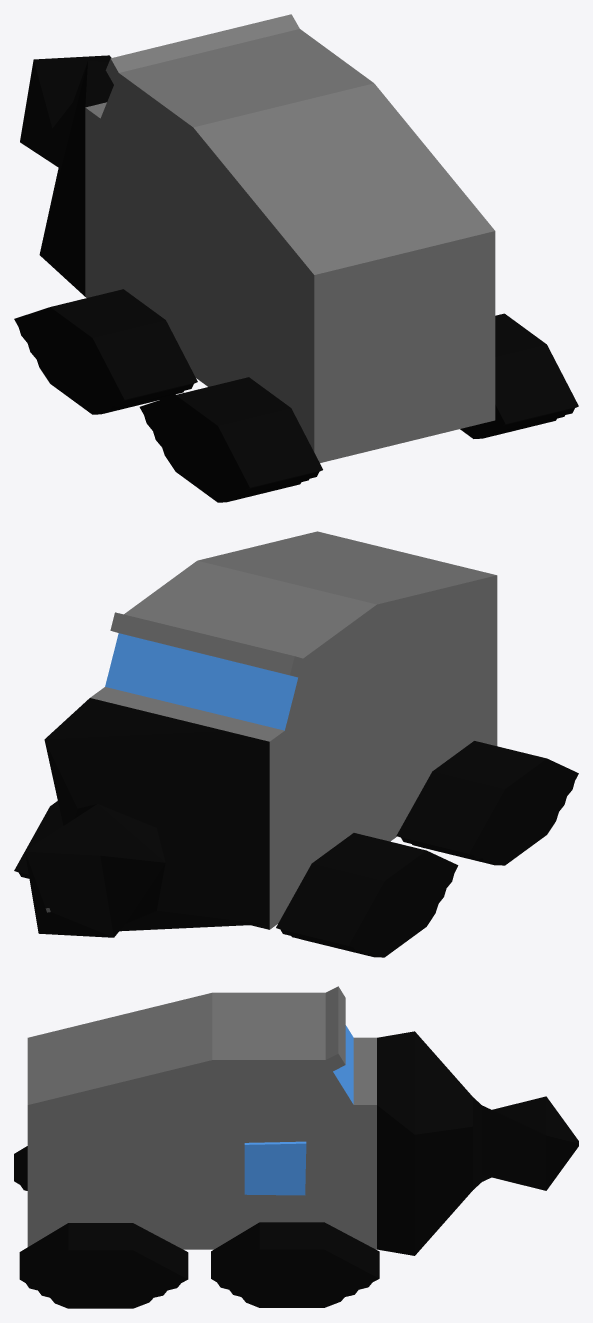
The model's file is Drill.fbx.
3 renders of one model, top to bottom at view 1: azimuth 30°, elevation 25°; view 2: azimuth 150°, elevation 25°; view 3: azimuth 270°, elevation 25°, orthographic. The views are drawn at different scales.
Parts seen in each view (by area): view 1: Cube; view 2: Cube; view 3: Cube.
Boxes of the visible parts, left/top/right/bottom form: Cube: left=14, top=14, right=578, bottom=502; Cube: left=14, top=531, right=578, bottom=957; Cube: left=14, top=986, right=578, bottom=1308.
Bounding box in the file's own units: 370 × 314 × 709.
